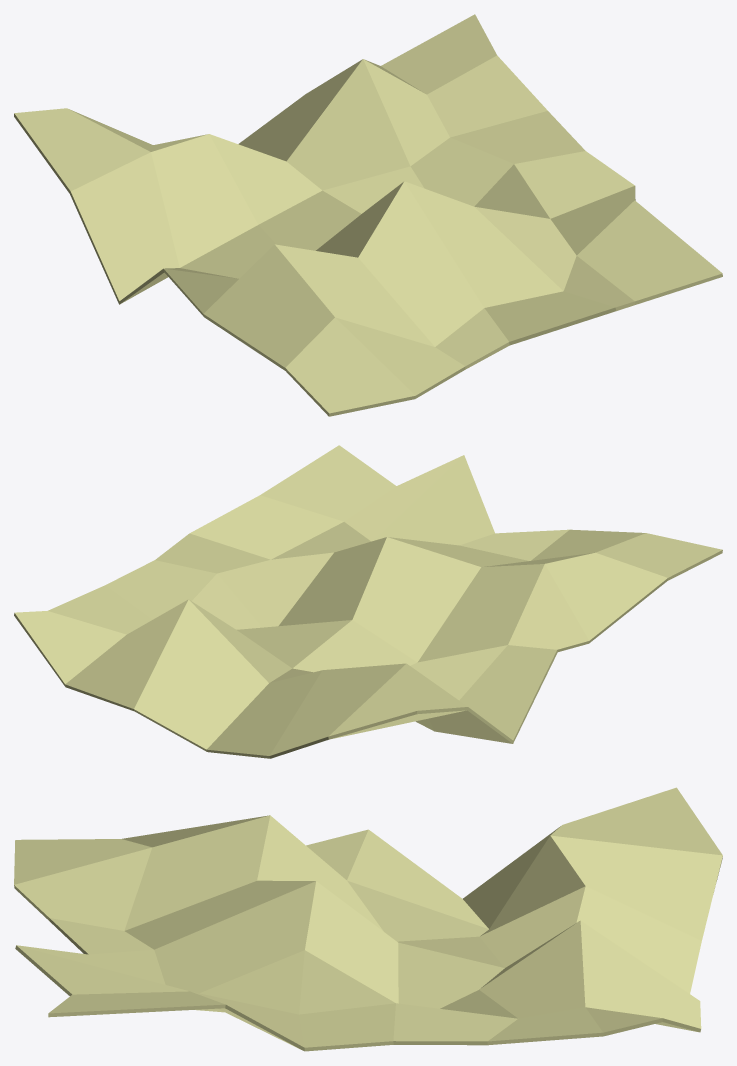
File: Paper1.fbx
The picture shows the model from 3 angles, top to bottom: view 1: azimuth 30°, elevation 25°; view 2: azimuth 150°, elevation 25°; view 3: azimuth 270°, elevation 25°; orthographic projection. The views are drawn at different scales.
Parts seen in each view (by area): view 1: Plane; view 2: Plane; view 3: Plane.
Part boxes in pixels (box(x1,y1,x2,y2)): Plane: box(14, 14, 722, 416); Plane: box(14, 445, 722, 758); Plane: box(14, 787, 722, 1051).
Bounding box in the file's own units: 1662 × 441 × 2163.
